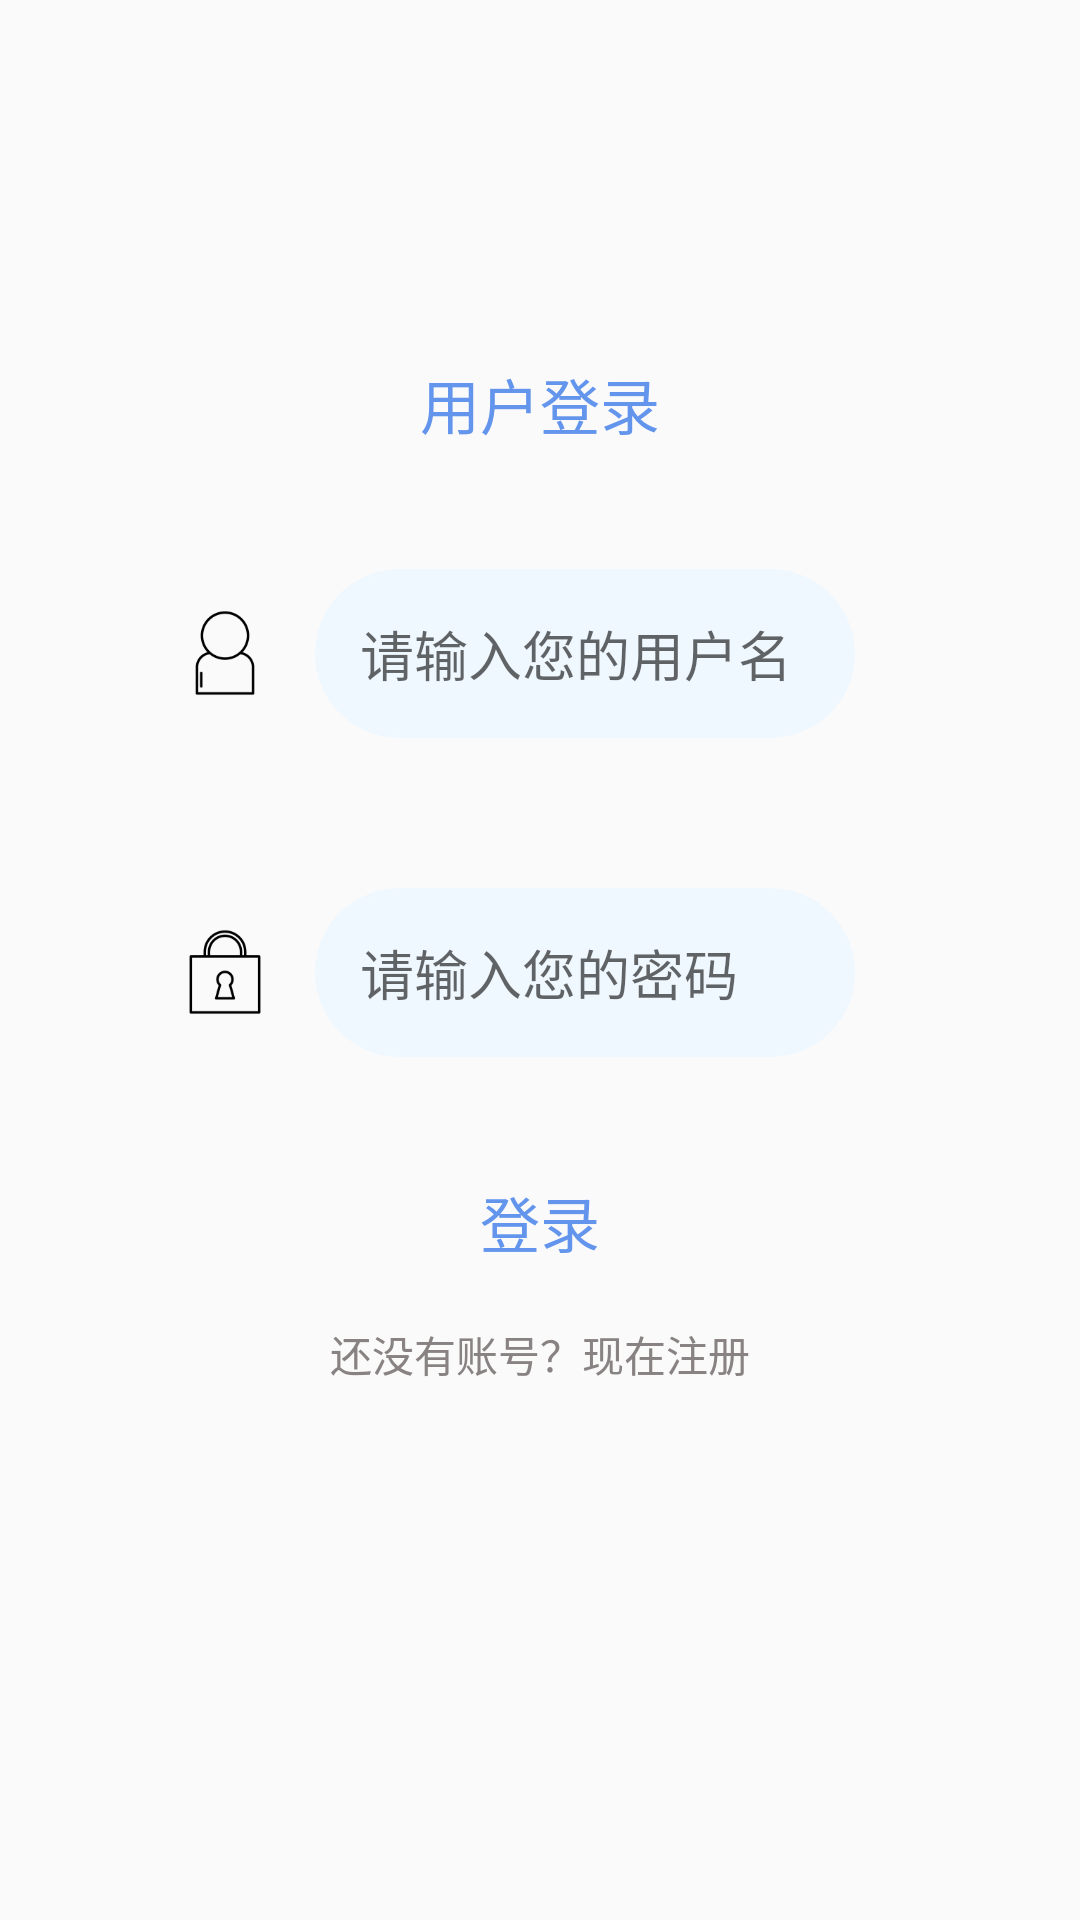

Screen size 1080 x 1920. Icon name, then its box in pixels as box=[x1, y1, x2, y2]:
password: box=[189, 930, 261, 1014]
uid: box=[195, 611, 255, 695]
